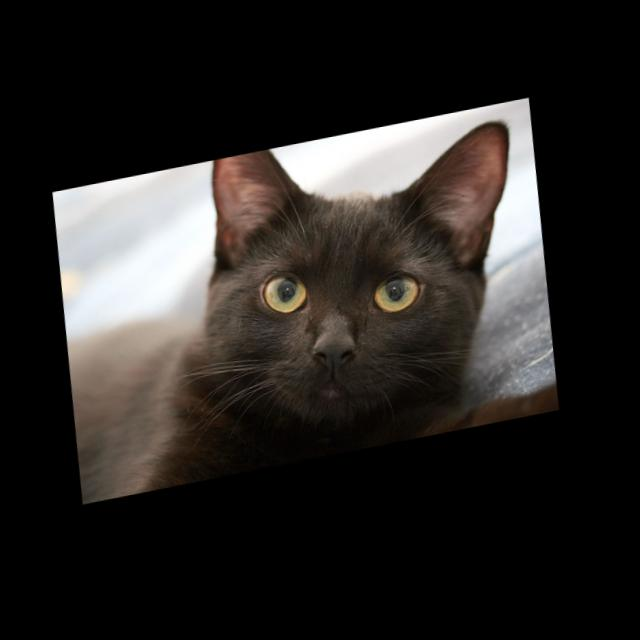animals: (201, 109, 528, 395)
